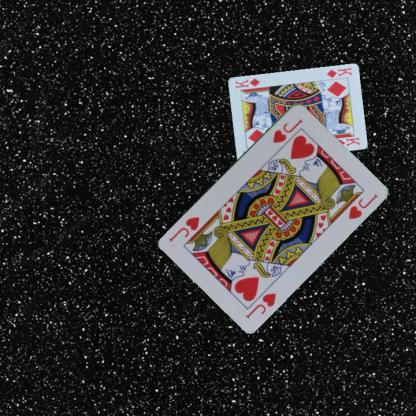Jh: (244, 290, 278, 320), (270, 115, 304, 144)
Kd: (324, 65, 353, 79)
